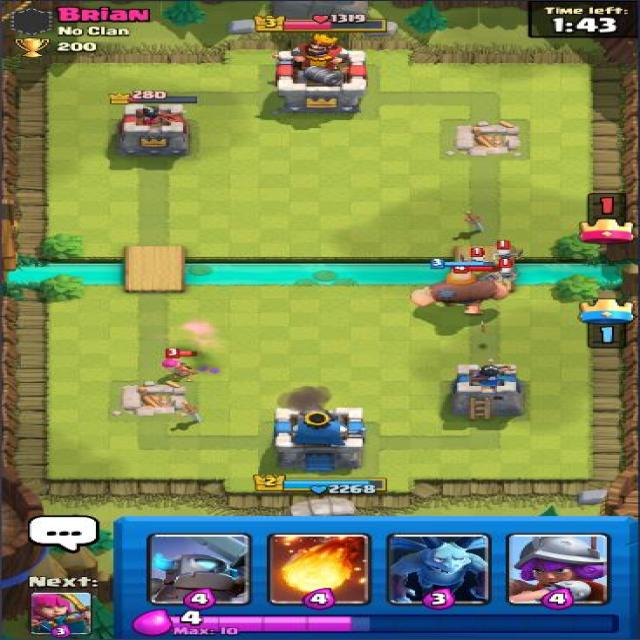Enemy-Archer: (160, 347, 204, 383)
Enemy-MiniPEKKA: (452, 262, 506, 290)
Enemy-Skeleton: (492, 239, 526, 267), (457, 246, 493, 271), (490, 258, 523, 284)
Player-Giant: (408, 256, 513, 316)
